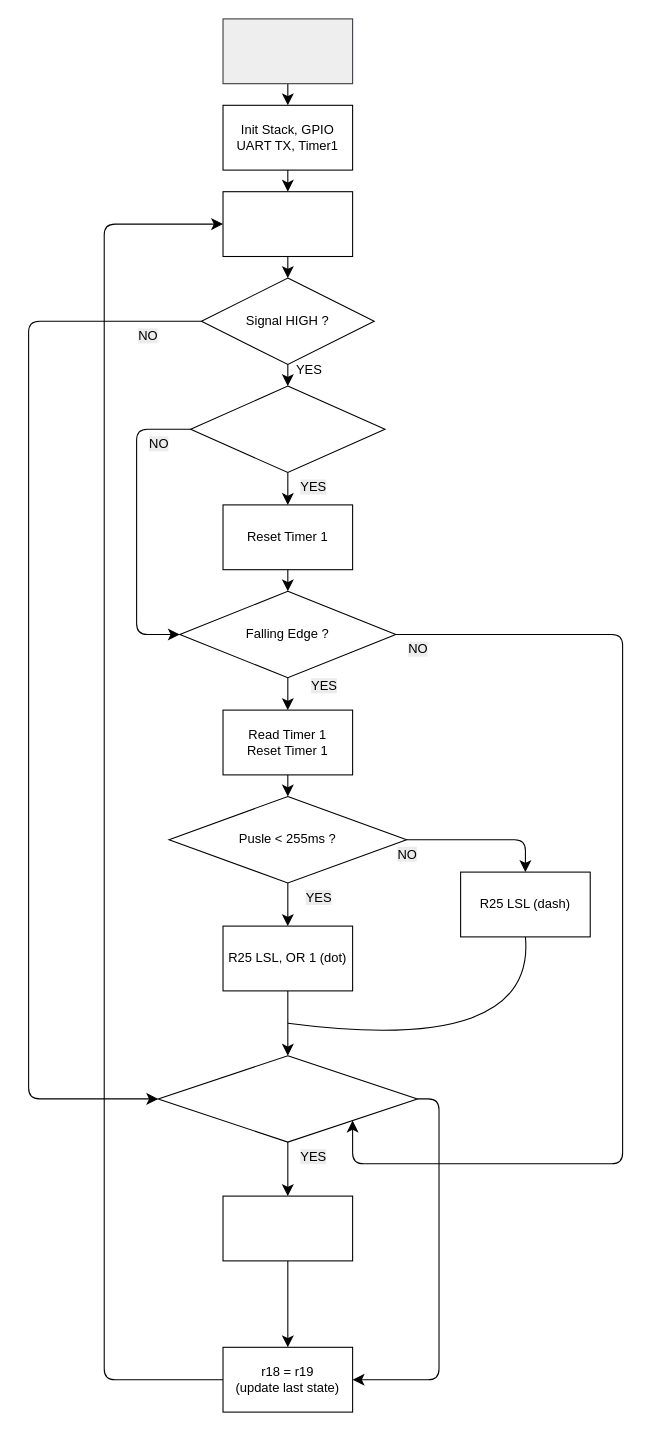
This 652x1431 diagram has some shape labels left out. Here are the shapes that lost their labels. From the top down, the centre of each, then its label:
At pixel 287 51: "Reset".
At pixel 287 223: "Read PINB (PB3) r19 = signal level".
At pixel 287 429: "Rising Edge ?".
At pixel 287 1098: "Silence >= 600ms?".
At pixel 287 1228: "DECODE_LETTER UART_SEND".
